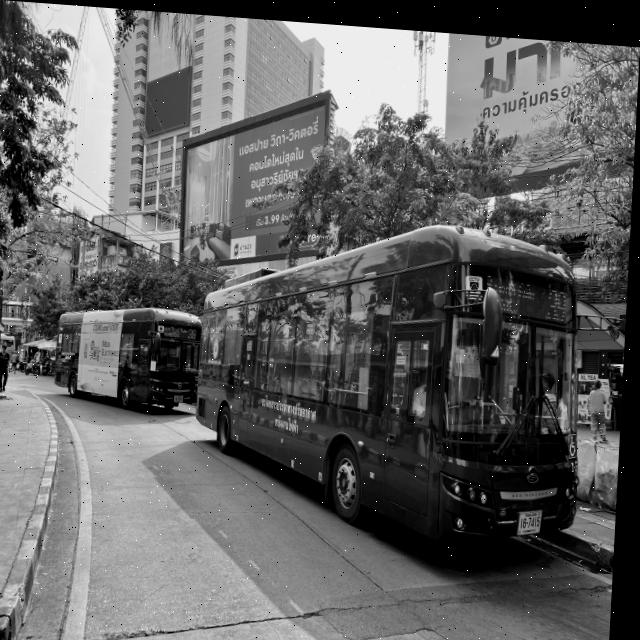Bus-Line-Number: (547, 276, 574, 315), (191, 325, 201, 337)
Destination-Sign-Normal: (483, 259, 546, 310), (166, 322, 192, 337)
TSB-Bus: (192, 197, 596, 550), (56, 294, 207, 412)
